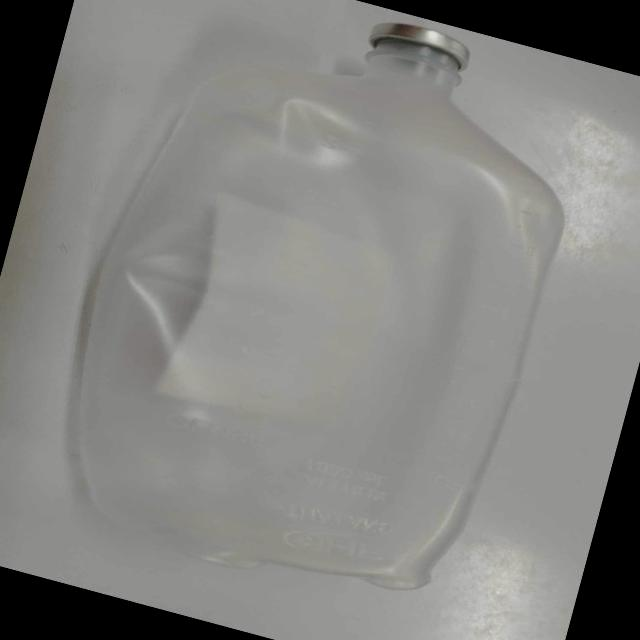Infectious: (71, 21, 567, 590)
